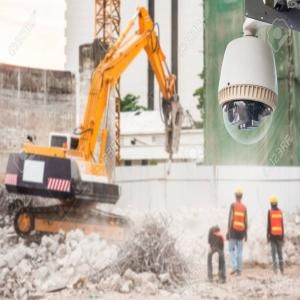yellow: (270, 195, 279, 211), (235, 188, 244, 203)
